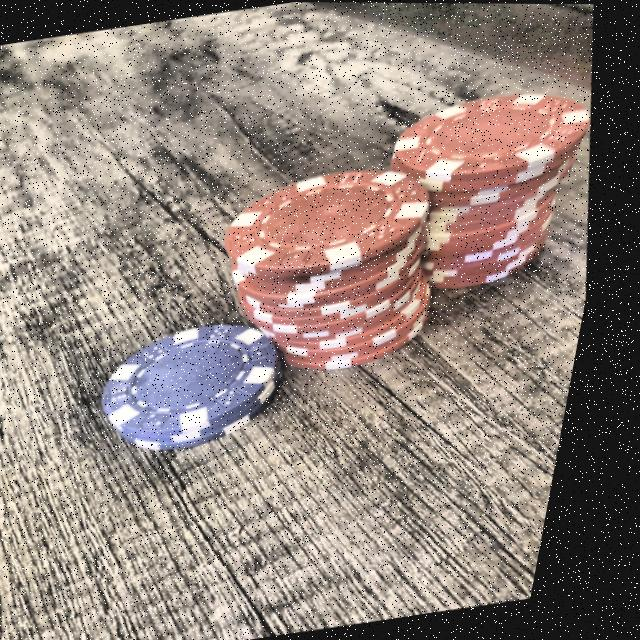Chip: (181, 122, 485, 409), (360, 47, 618, 315), (81, 284, 323, 472)
